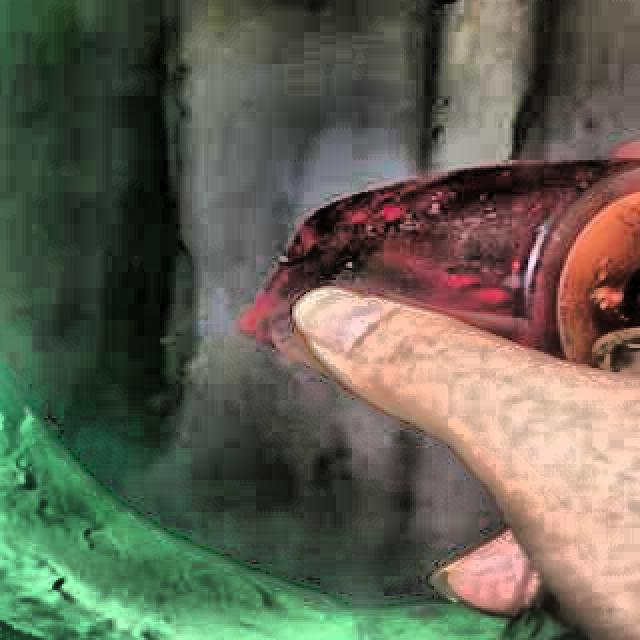glass: (240, 161, 640, 367)
